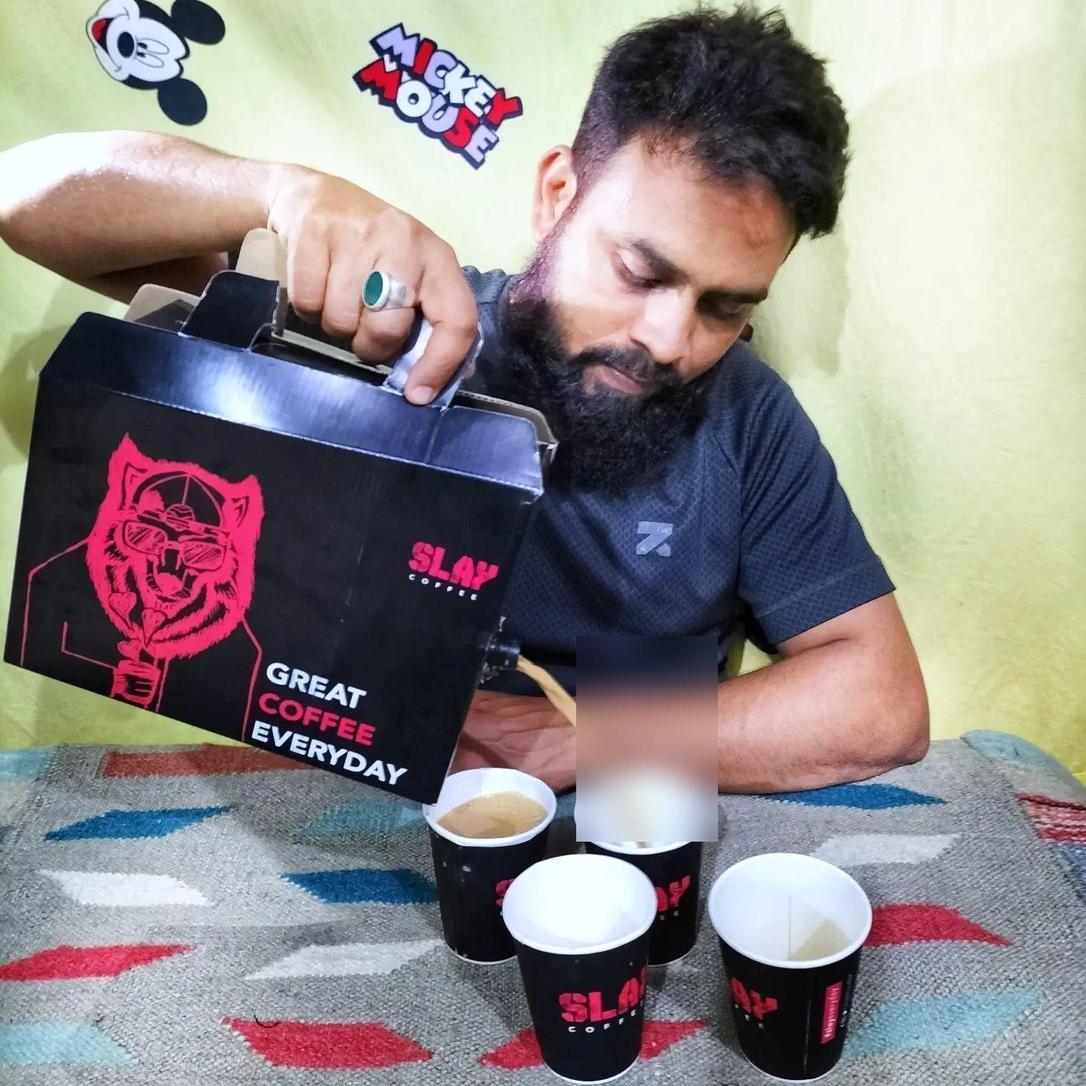cup-disposable: (708, 851, 875, 1084), (499, 851, 659, 1081), (422, 762, 563, 968)
